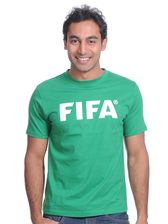clothoes: (26, 67, 149, 216)
